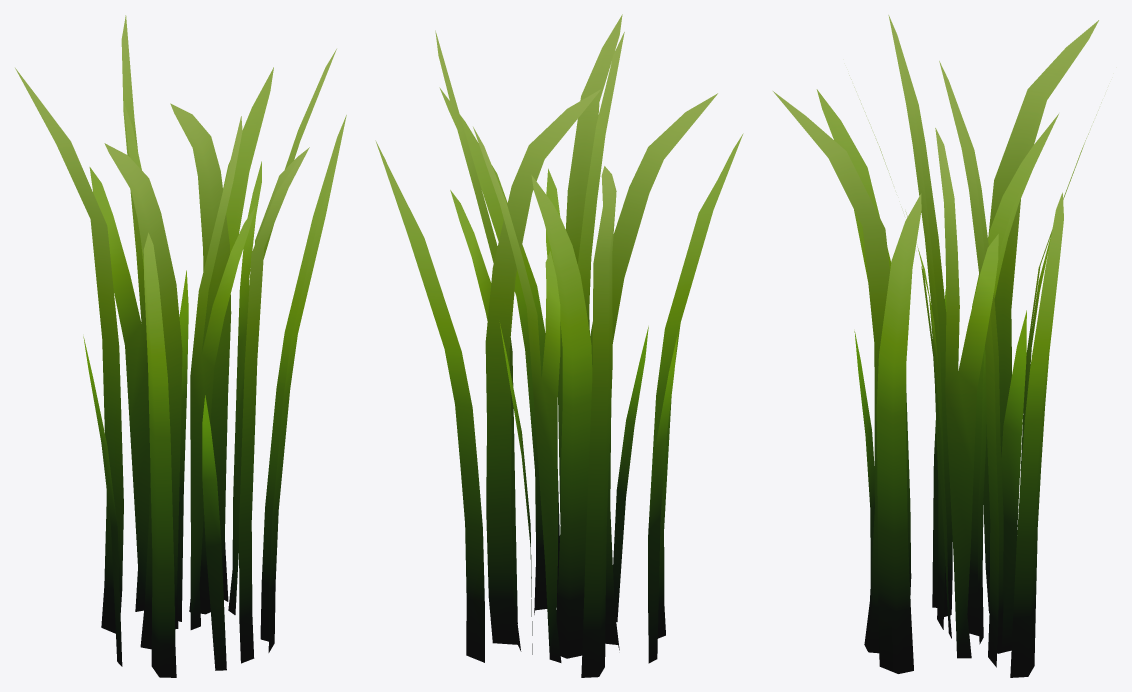
Rendered from Grass_Common_Tall.glb.
3 views of the same model, side by side, from view 1: azimuth 30°, elevation 25°; view 2: azimuth 150°, elevation 25°; view 3: azimuth 270°, elevation 25° (orthographic). The views are drawn at different scales.
Visible parts, largest first — view 1: Grass_Common_Tall; view 2: Grass_Common_Tall; view 3: Grass_Common_Tall.
Part boxes in pixels (left/top/right/bottom): Grass_Common_Tall: left=15, top=15, right=346, bottom=677; Grass_Common_Tall: left=375, top=14, right=743, bottom=677; Grass_Common_Tall: left=773, top=15, right=1101, bottom=677.
Bounding box in the file's own units: 0.8951 × 1.87 × 0.9931.
1 material, 1 textured.
